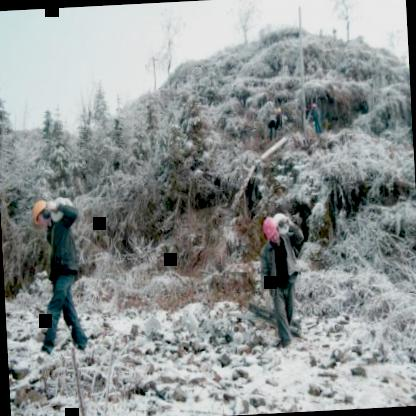helmet: (31, 196, 53, 230), (261, 214, 280, 244)
